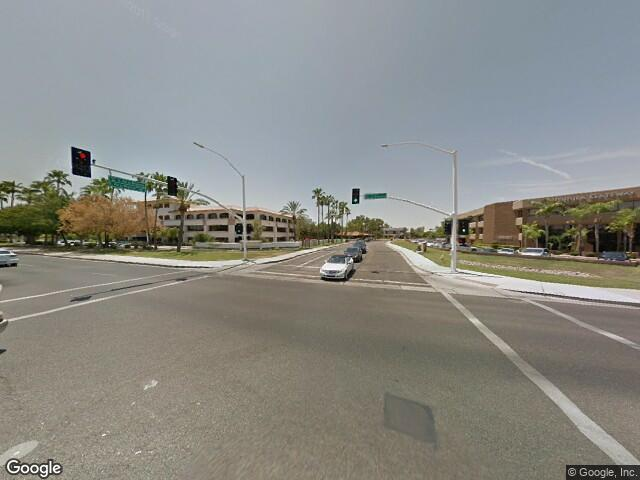c: (443, 268, 511, 291), (207, 257, 249, 272)
l: (432, 287, 639, 464), (2, 267, 218, 318), (231, 259, 319, 280), (353, 264, 425, 287)
